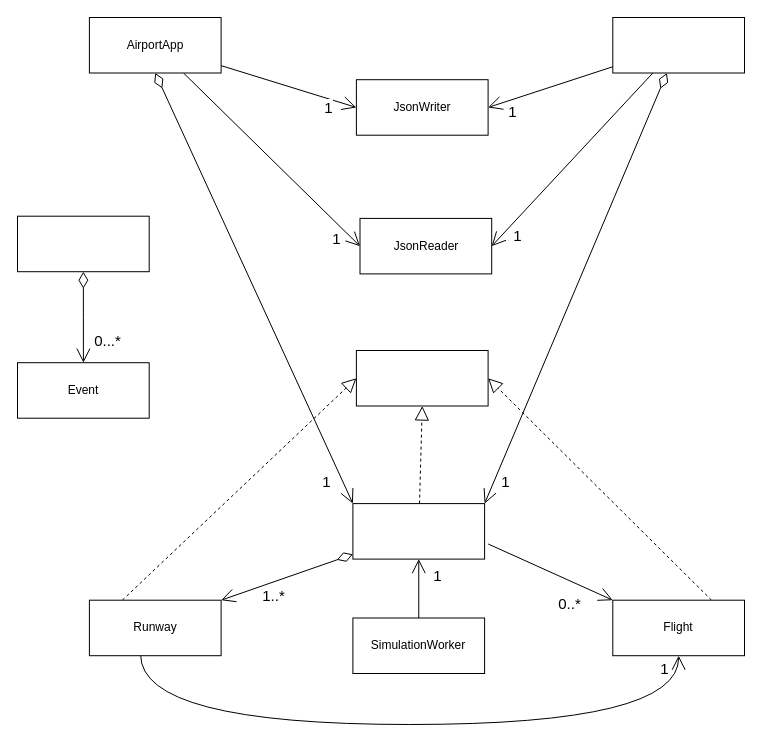
Some shapes in this 762 by 742 pixel diagram are drawn without their labels. Each missing label, with the box of its shape:
Airport: (352, 503, 485, 559)
AirportAppGUI: (612, 16, 744, 73)
EventLog: (16, 215, 149, 272)
«interface» Writable: (355, 350, 488, 406)
